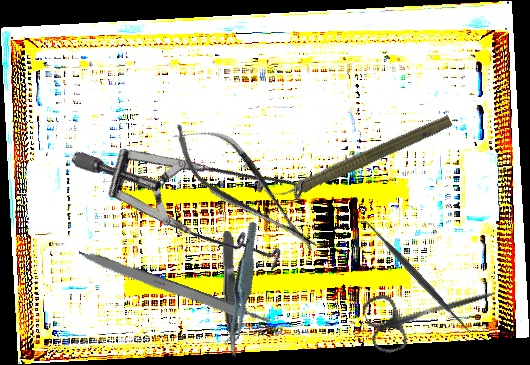Handpiece: (262, 107, 455, 211)
Iris Scissors: (360, 263, 502, 357)
Micro Scissor: (157, 104, 333, 272)
Scalpel Handle: (75, 247, 273, 331)
Spatula Surgical: (354, 210, 479, 342)
Speculum: (68, 51, 335, 324)
Tissue Forceps: (202, 221, 283, 348), (221, 230, 241, 359)
